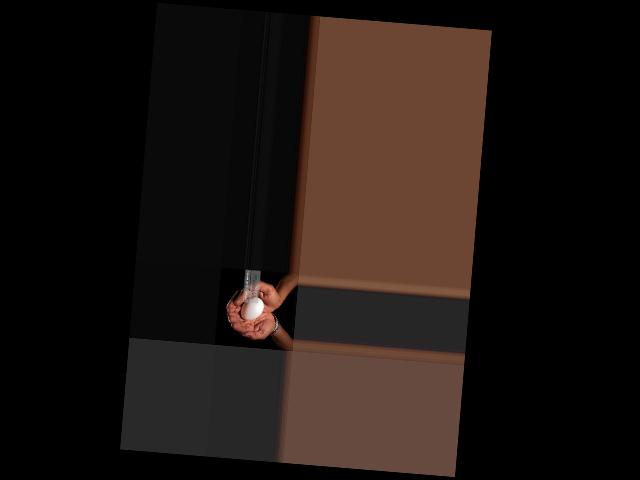egg: (239, 297, 263, 321)
